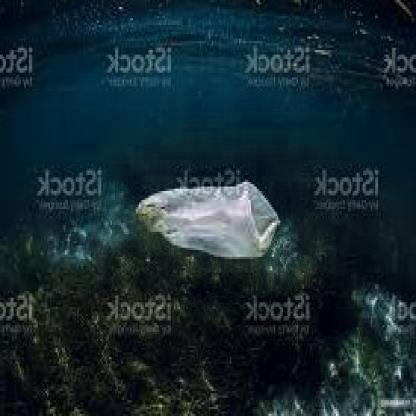pbag: (133, 180, 283, 262)
